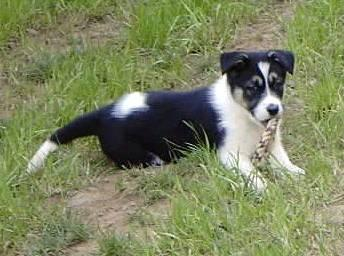dog: (28, 49, 303, 189)
